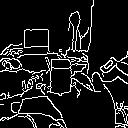cube: (46, 58, 74, 94)
